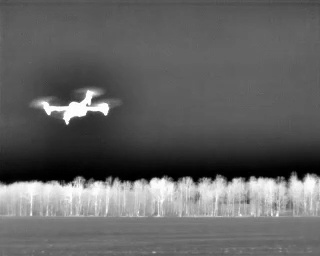DRONE: (28, 81, 131, 133)
